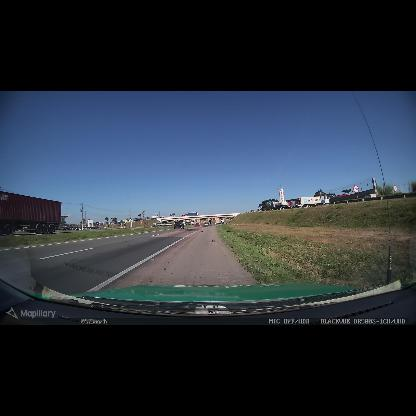R-19: (353, 185, 359, 193)
